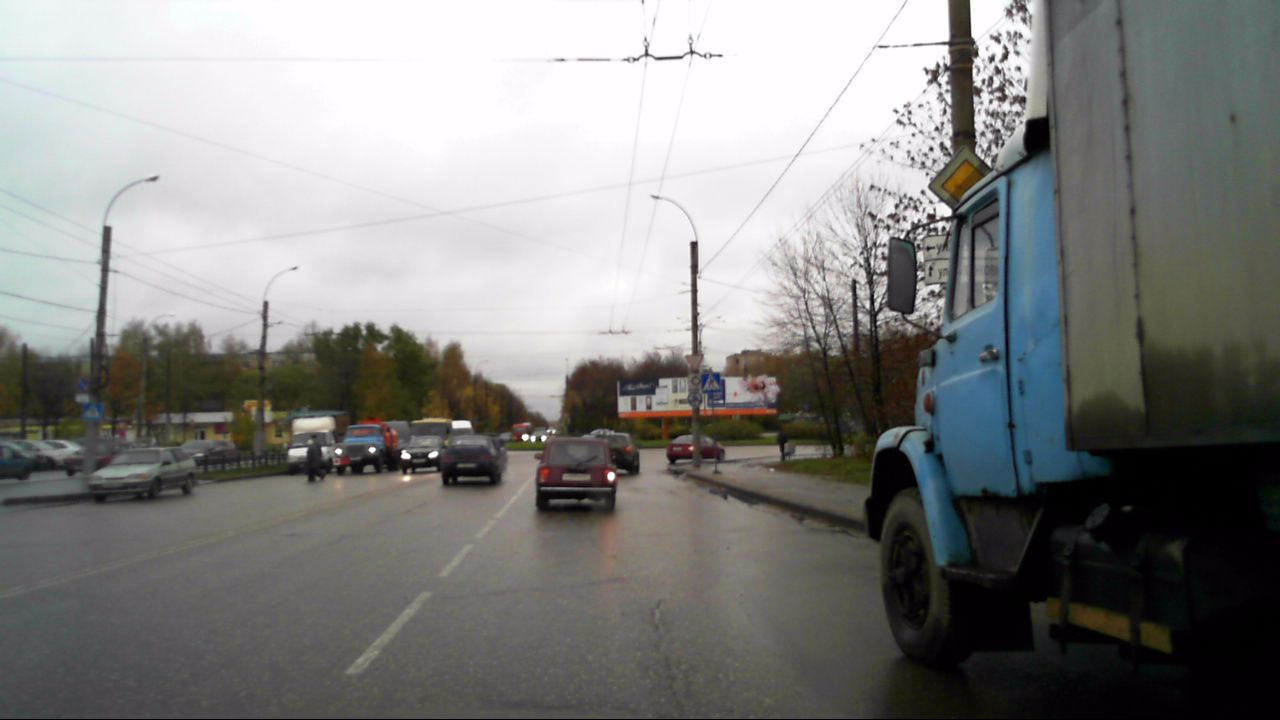main road: (930, 148, 998, 219)
